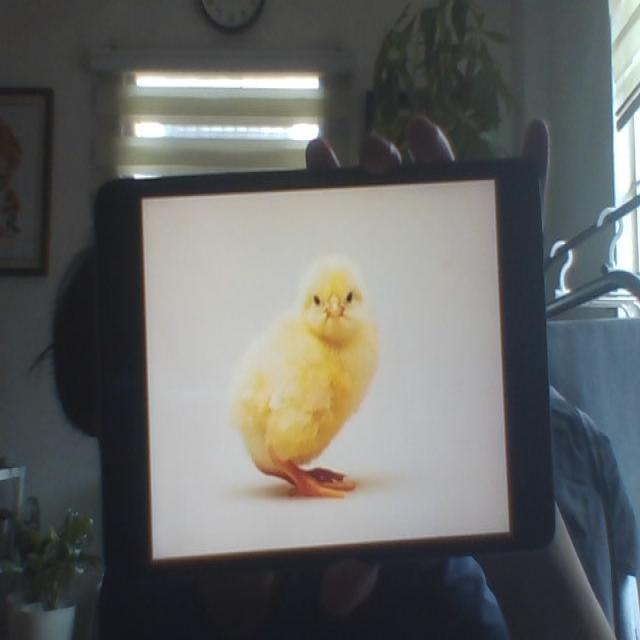Healthy: (236, 258, 382, 502)
